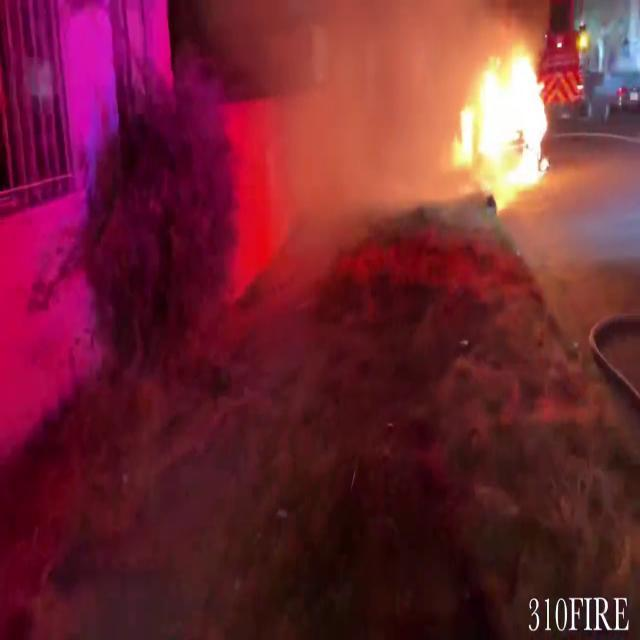Fire: (448, 36, 558, 196)
Smoke: (94, 0, 478, 304), (221, 0, 475, 301)
